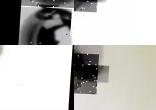ironball: (17, 5, 72, 45), (74, 52, 99, 93), (74, 0, 99, 11)
